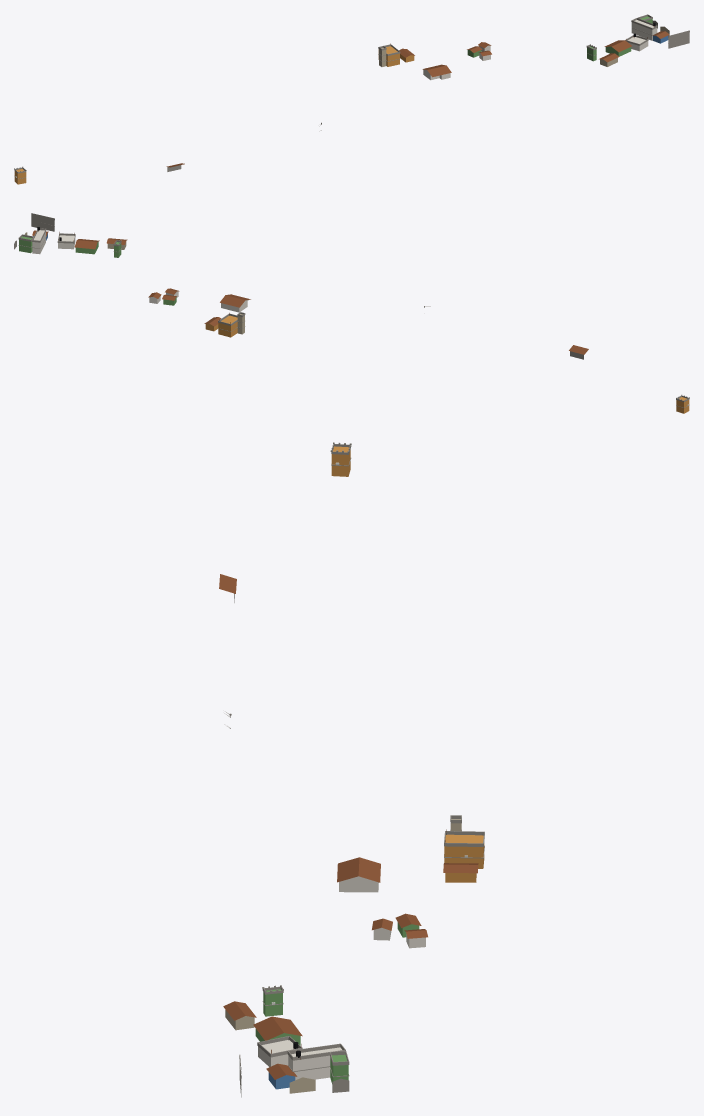
Rendered from zone_t-6_3.glb.
The picture shows the model from 3 angles, top to bottom: view 1: azimuth 30°, elevation 25°; view 2: azimuth 150°, elevation 25°; view 3: azimuth 270°, elevation 25°; orthographic projection. The views are drawn at different scales.
Parts seen in each view (by area): view 1: toit_tole_t-6_3, bld_peinture_blanc_t-6_3-col, parapet_t-6_3, bld_peinture_ocre_t-6_3-col, bld_peinture_vert_t-6_3-col, bld_beton_t-6_3-col, bld_peinture_ecaillee_t-6_3-col; view 2: toit_tole_t-6_3, bld_peinture_blanc_t-6_3-col, bld_peinture_ocre_t-6_3-col, parapet_t-6_3, bld_peinture_vert_t-6_3-col, bld_beton_t-6_3-col; view 3: toit_tole_t-6_3, bld_peinture_blanc_t-6_3-col, bld_peinture_ocre_t-6_3-col, parapet_t-6_3, bld_peinture_vert_t-6_3-col.
Boxes of the visible parts, x1,y1,x2,y2 form: toit_tole_t-6_3: (166, 31, 669, 167); bld_peinture_blanc_t-6_3-col: (423, 20, 657, 80); parapet_t-6_3: (14, 14, 689, 173); bld_peinture_ocre_t-6_3-col: (14, 46, 414, 184); bld_peinture_vert_t-6_3-col: (467, 16, 652, 61); bld_beton_t-6_3-col: (167, 21, 689, 171); bld_peinture_ecaillee_t-6_3-col: (379, 27, 669, 66); toit_tole_t-6_3: (32, 230, 588, 354); bld_peinture_blanc_t-6_3-col: (32, 230, 247, 312); bld_peinture_ocre_t-6_3-col: (205, 315, 689, 413); parapet_t-6_3: (18, 213, 689, 401); bld_peinture_vert_t-6_3-col: (19, 236, 176, 305); bld_beton_t-6_3-col: (14, 215, 583, 359); toit_tole_t-6_3: (219, 574, 478, 1079); bld_peinture_blanc_t-6_3-col: (258, 881, 425, 1080); bld_peinture_ocre_t-6_3-col: (331, 446, 484, 882); parapet_t-6_3: (224, 442, 484, 1078); bld_peinture_vert_t-6_3-col: (255, 922, 419, 1083).
Bounding box in the file's own units: 368 × 9.9 × 65.17.
